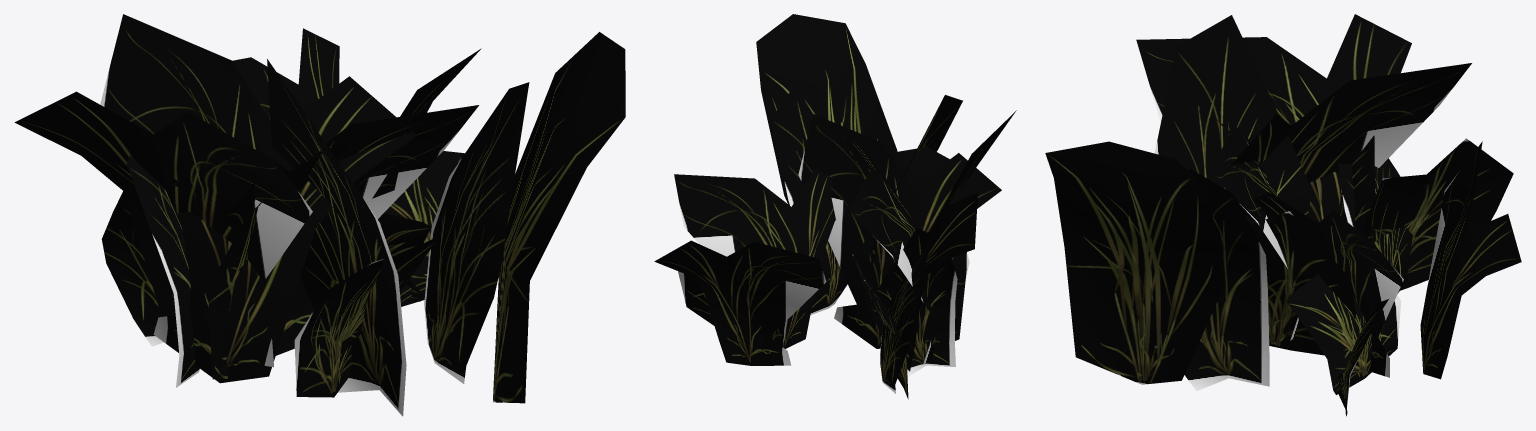
File: grass2 1.fbx
3 renders of one model, left to right at view 1: azimuth 30°, elevation 25°; view 2: azimuth 150°, elevation 25°; view 3: azimuth 270°, elevation 25°, orthographic. The views are drawn at different scales.
Visible parts, largest first — view 1: grasspatch2; view 2: grasspatch2; view 3: grasspatch2.
Boxes of the visible parts, x1,y1,x2,y2 form: grasspatch2: (14, 14, 625, 416); grasspatch2: (654, 14, 1016, 399); grasspatch2: (1045, 14, 1521, 416).
Bounding box in the file's own units: 161 × 120 × 170.
